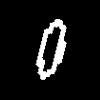chain: (36, 19, 65, 79)
